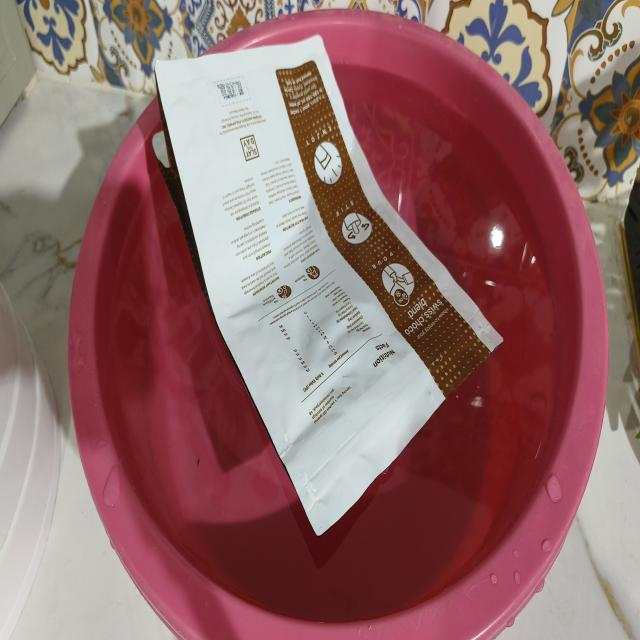Plastic Pouch: (156, 36, 502, 534)
